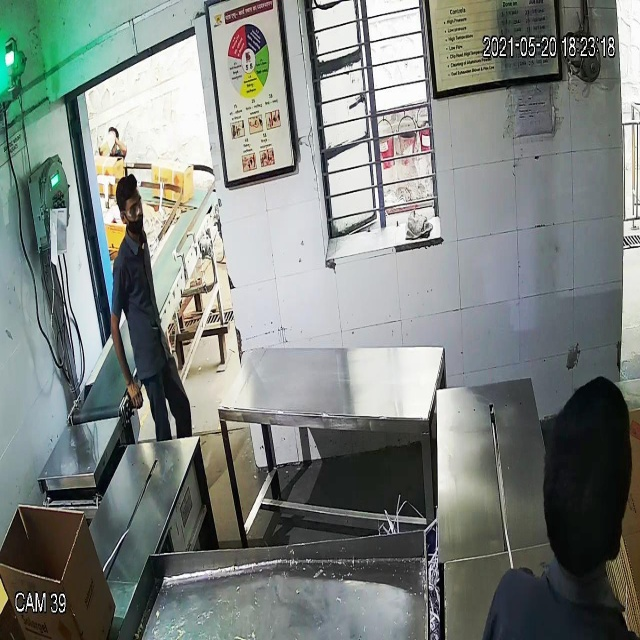Gafas: (115, 198, 147, 220)
